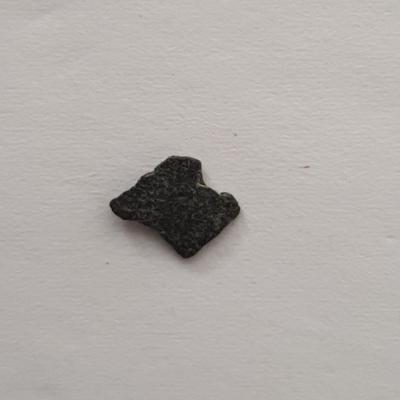plastic: (103, 146, 251, 267)
